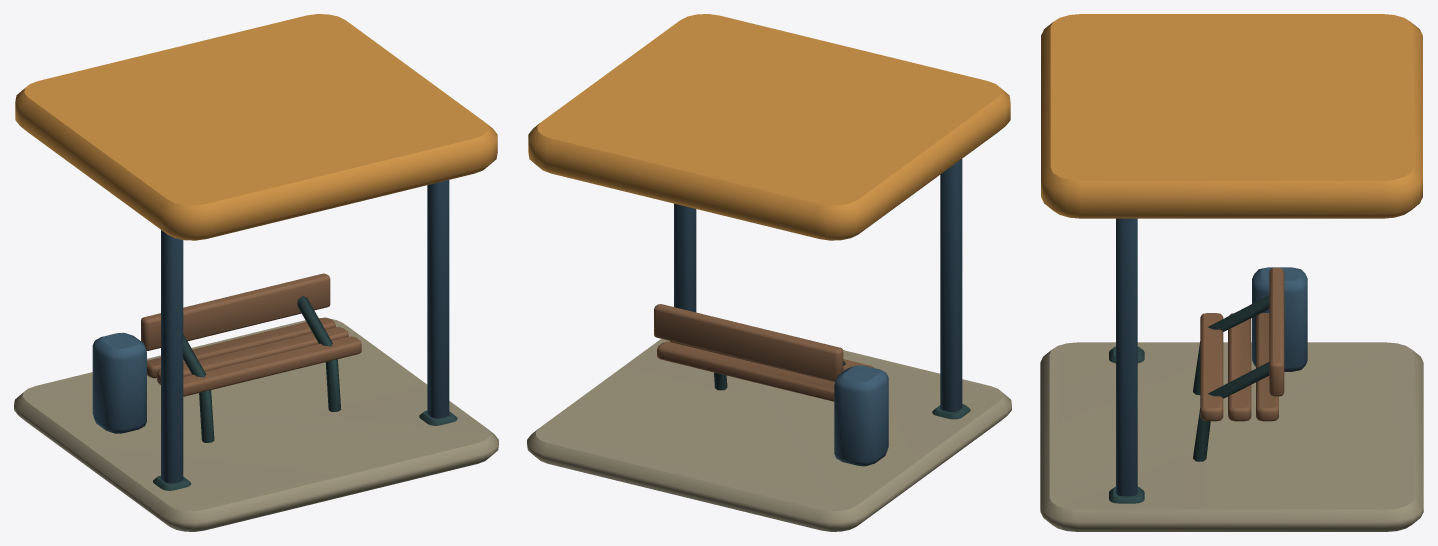
Rendered from alpine_motel_2.glb.
3 views of the same model, side by side, from view 1: azimuth 30°, elevation 25°; view 2: azimuth 150°, elevation 25°; view 3: azimuth 270°, elevation 25° (orthographic). The views are drawn at different scales.
Parts seen in each view (by area): view 1: Motel2; view 2: Motel2; view 3: Motel2.
Boxes of the visible parts, box(x1,y1,x2,y2) form: Motel2: box(14, 14, 498, 531); Motel2: box(527, 14, 1011, 531); Motel2: box(1040, 14, 1423, 531).
Size of the model in its own units: 2.68 by 2.51 by 2.48.
